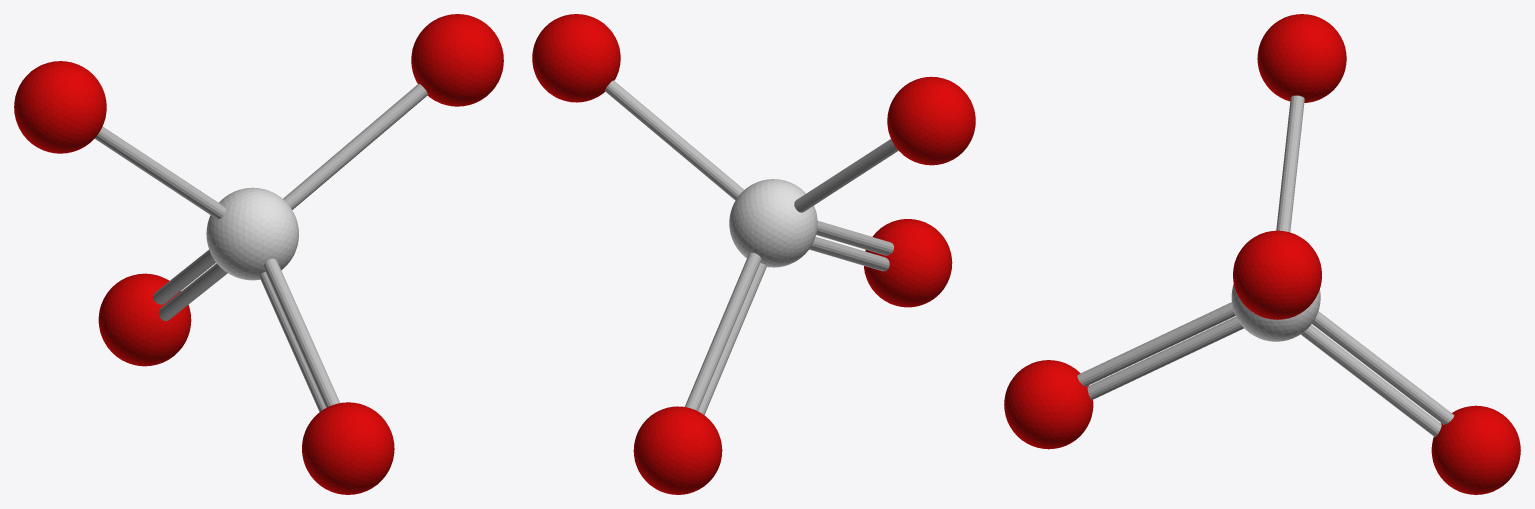
3 renders of one model, left to right at view 1: azimuth 30°, elevation 25°; view 2: azimuth 150°, elevation 25°; view 3: azimuth 270°, elevation 25°, orthographic. The views are drawn at different scales.
Parts seen in each view (by area): view 1: world; view 2: world; view 3: world.
Part boxes in pixels (x1,y1,x2,y2): world: [14, 14, 503, 494]; world: [532, 14, 975, 494]; world: [1004, 14, 1520, 494].
Bounding box in the file's own units: 2.89 × 2.41 × 2.89.
